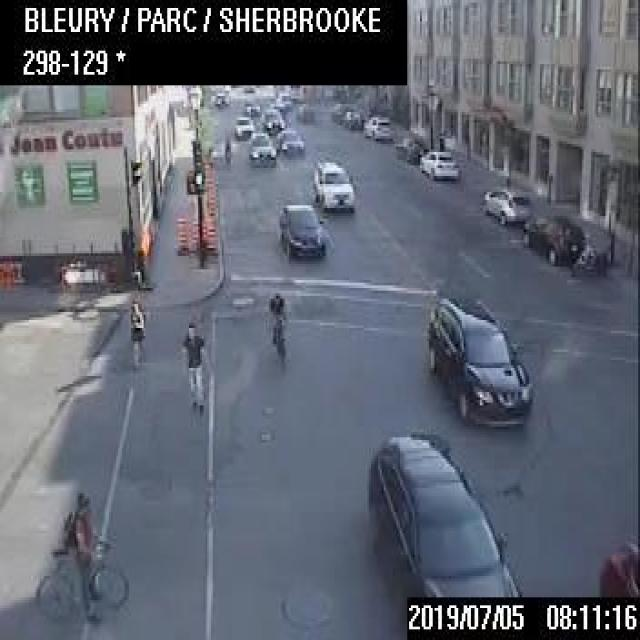construction: (174, 215, 186, 252), (205, 217, 216, 254), (186, 215, 196, 251), (206, 194, 215, 218), (205, 175, 214, 198), (200, 216, 206, 246)
cyclist: (33, 488, 128, 618), (266, 290, 289, 363), (223, 134, 230, 166)
pedestrian: (180, 320, 204, 409), (128, 296, 144, 363)
vehicle: (364, 426, 522, 594), (422, 291, 534, 424), (522, 211, 585, 264), (276, 201, 324, 259), (595, 530, 638, 594), (310, 158, 353, 211), (480, 184, 530, 223), (418, 148, 459, 178), (247, 130, 275, 165), (394, 133, 427, 160), (276, 128, 304, 154), (362, 114, 392, 138), (261, 107, 285, 132), (232, 114, 254, 139), (340, 106, 363, 126), (330, 101, 351, 122), (296, 102, 313, 120), (243, 97, 260, 114), (274, 91, 290, 108), (214, 90, 227, 104)
